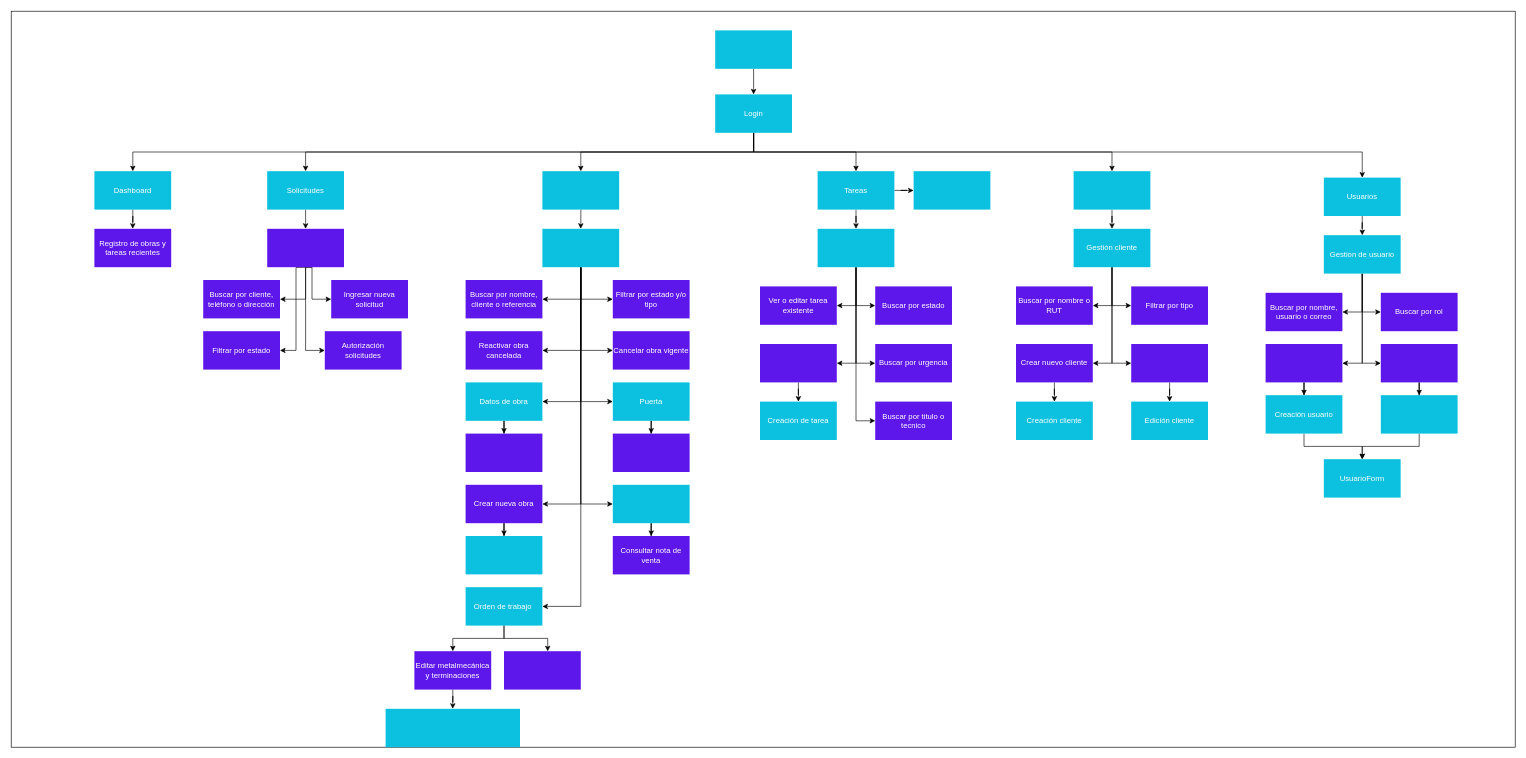
Image size: 1526x758. Some labels were removed from this diagram. Each missing label, with the centre of its shape:
"Acceder a orden de trabajo" belongs at point 542,670.
"Clientes" belongs at point 1111,190.
"Creación de obra" belongs at point 503,555.
"Crear nueva tarea" belongs at point 798,363.
"Crear nuevo usuario" belongs at point 1303,363.
"Edición usuario" belongs at point 1418,414.
"Editar cliente existente" belongs at point 1169,363.
"Editar o eliminar usuario" belongs at point 1418,363.
"Editar obra" belongs at point 503,452.
"Editar puerta" belongs at point 650,452.
"EditarTerminacionesMetalmecanica" belongs at point 452,727.
"Gestion secretaria" belongs at point 305,247.
"Gestión de obras" belongs at point 580,247.
"Gestión de tareas" belongs at point 855,247.
"Nota de venta" belongs at point 650,503.
"Obras" belongs at point 580,190.
"Sistema" belongs at point 753,49.
"Trazabilidad" belongs at point 951,190.
